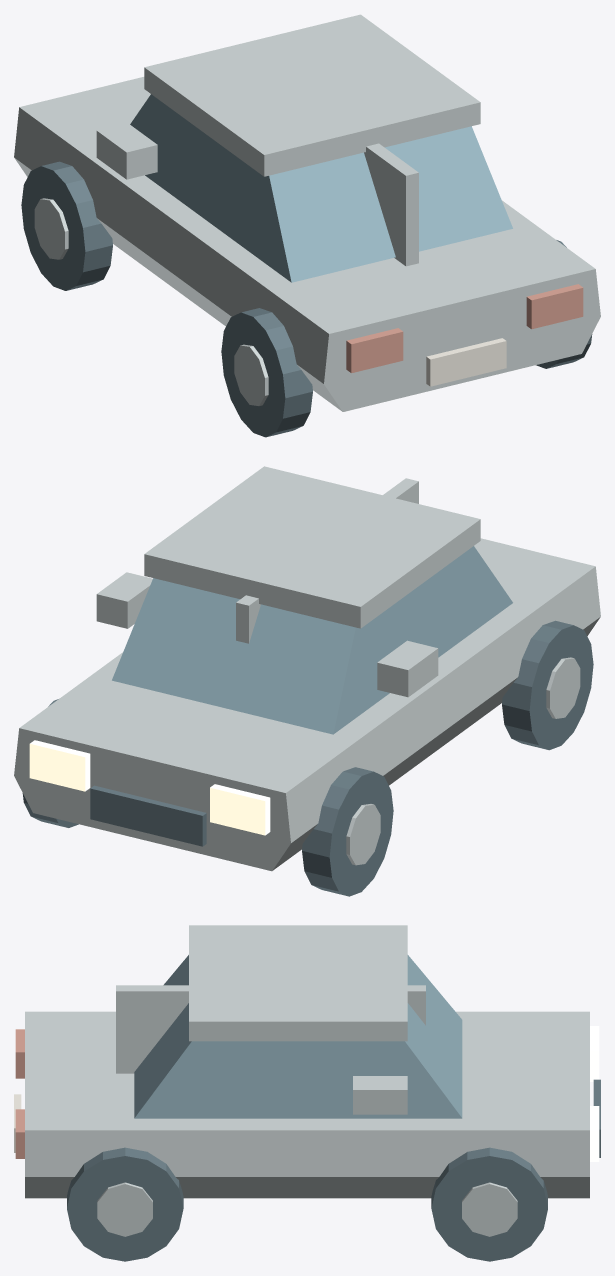
File: remaster_car_5.glb
3 views of the same model, one above another, from view 1: azimuth 30°, elevation 25°; view 2: azimuth 150°, elevation 25°; view 3: azimuth 270°, elevation 25° (orthographic). The views are drawn at different scales.
Parts seen in each view (by area): view 1: remaster_car_5 metal, remaster_car_5 glass, remaster_car_5 dark, remaster_car_5 red, remaster_car_5 white; view 2: remaster_car_5 metal, remaster_car_5 glass, remaster_car_5 dark, remaster_car_5 warm; view 3: remaster_car_5 metal, remaster_car_5 glass, remaster_car_5 dark, remaster_car_5 warm, remaster_car_5 red.
Part boxes in pixels (x1,y1,x2,y2): remaster_car_5 metal: (14, 14, 600, 411); remaster_car_5 glass: (130, 94, 512, 282); remaster_car_5 dark: (21, 161, 592, 437); remaster_car_5 red: (346, 284, 583, 373); remaster_car_5 white: (426, 338, 506, 386); remaster_car_5 metal: (14, 466, 600, 871); remaster_car_5 glass: (112, 546, 512, 734); remaster_car_5 dark: (22, 620, 593, 896); remaster_car_5 warm: (29, 740, 270, 835); remaster_car_5 metal: (25, 925, 589, 1236); remaster_car_5 glass: (134, 955, 462, 1118); remaster_car_5 dark: (67, 1079, 600, 1261); remaster_car_5 warm: (590, 1026, 599, 1161); remaster_car_5 red: (15, 1029, 24, 1158).
Bounding box in the file's own units: 1.82 × 1.33 × 3.22.
